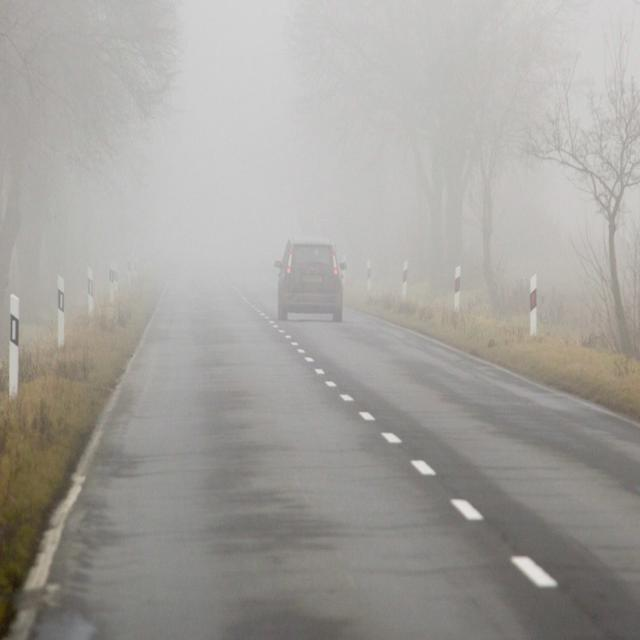car: (276, 238, 344, 320)
